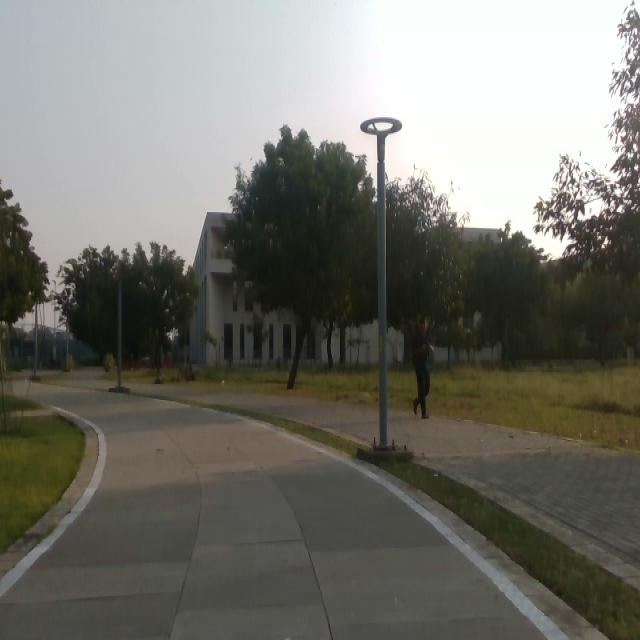lane: (0, 381, 549, 640)
